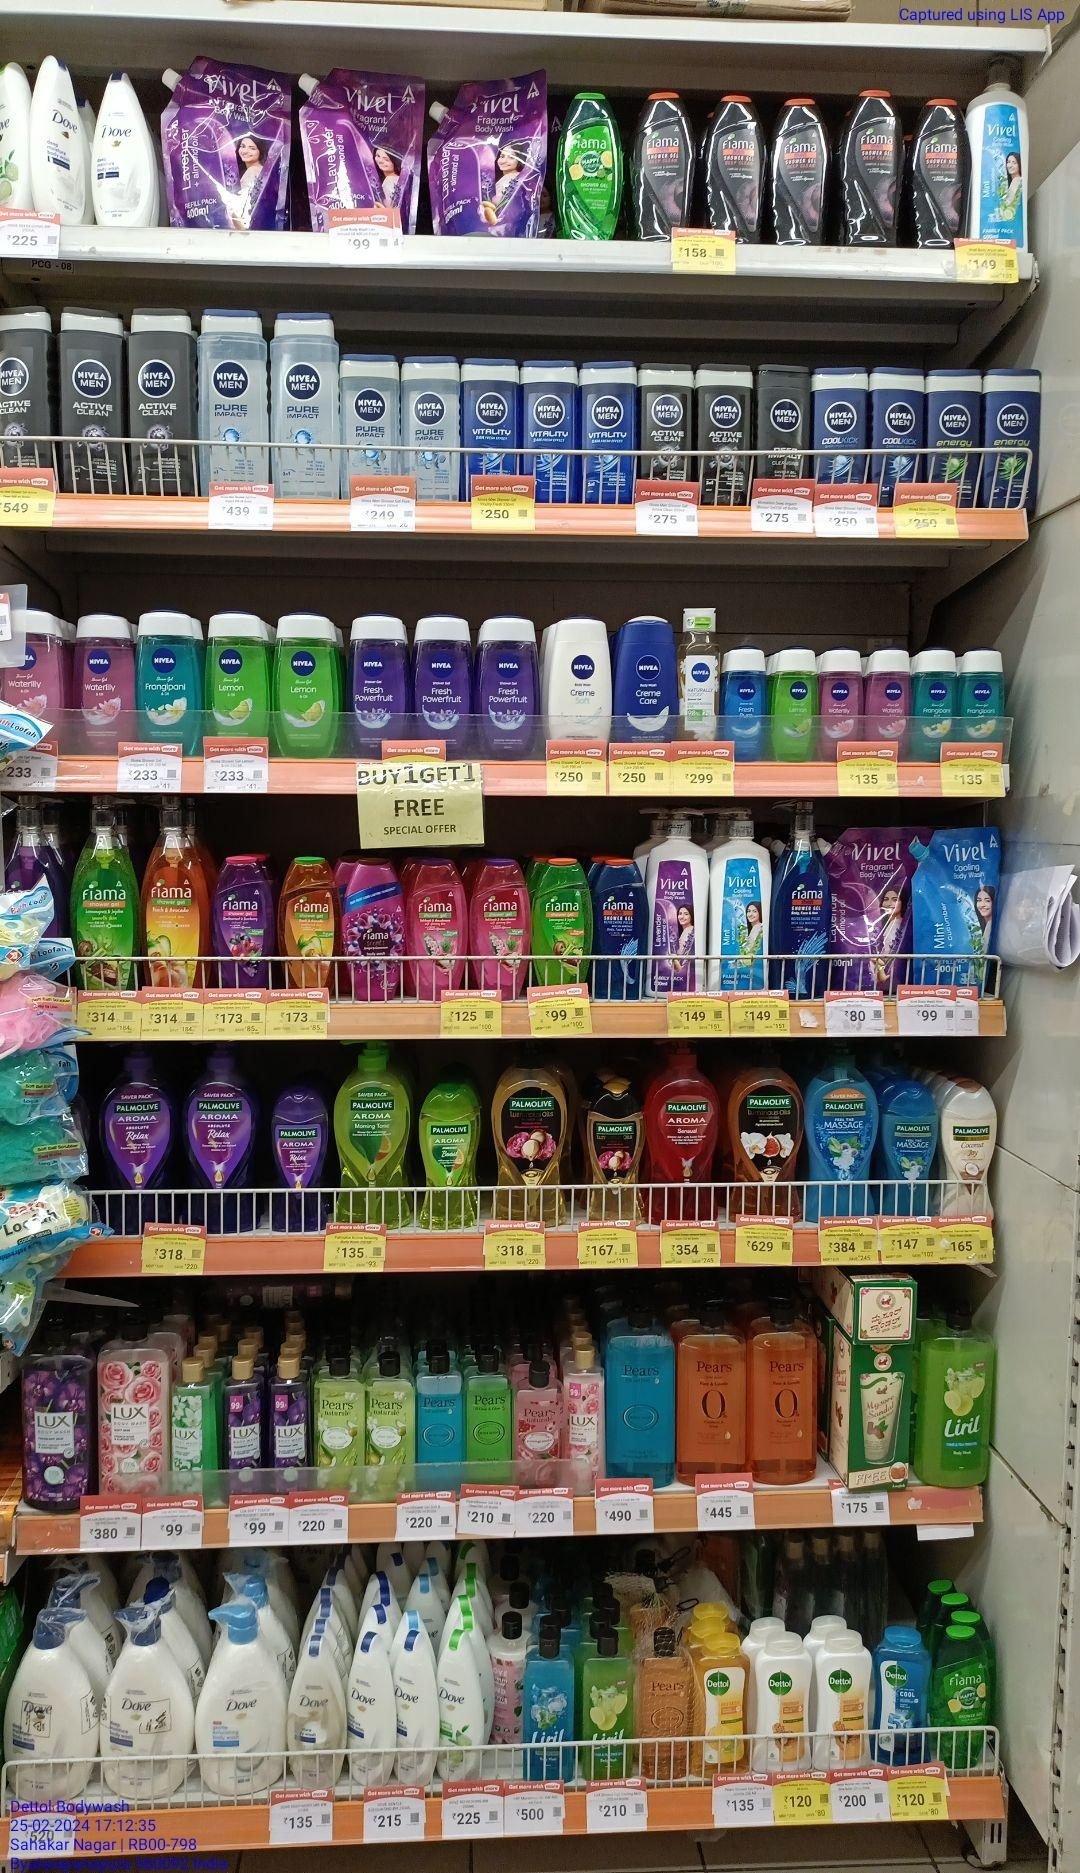Dettol_Bodywash_Cool: (879, 1626, 931, 1765)
Dettol_Bodywash_Refresh: (701, 1640, 750, 1773)
Dettol_Nourish_Body_Wash_250ML: (816, 1641, 872, 1766), (760, 1644, 813, 1774)
Dove_Deep_Moisture_Body_Wash_250ML: (291, 1644, 347, 1791), (395, 1632, 440, 1786), (351, 1632, 392, 1788)
Dove_Refreshing_Body_Wash_250ML: (440, 1630, 483, 1779)
Fiama_Shower_Gel_Lemongrass_and_Jojoba_250ML: (534, 859, 589, 992)
Fiama_Shower_Gel_Patchouli_and_Macadamia_250ML: (471, 858, 530, 1001), (411, 859, 467, 998)
Fiama_Shower_Gel_Peach_and_Avocado_250ML: (284, 858, 337, 985)
Liril_Cooling_Mint_Body_Wash_250ML: (521, 1635, 575, 1784)
Liril_Lime_and_Tea_Tree_Oil_Body_Wash_250ML: (585, 1632, 630, 1782)
Lux_Black_Orchid_Scent_and_Juniper_Oil_Body_Wash_245ML: (267, 1358, 314, 1492), (224, 1357, 266, 1494)
Lux_Body_Wash_Skin_Detox_Freesia_Scent_and_Alove_Vera_245ML: (172, 1360, 216, 1504)
Nivea_Shower_Gel_Frangipani_and_Oil_250ML: (138, 612, 198, 755)
Nivea_Shower_Gel_Fresh_Powerfruit_250ML: (351, 615, 409, 763), (482, 616, 537, 762), (418, 612, 471, 759)
Nivea_Shower_Gel_Lemon_and_Oil_250ML: (204, 614, 269, 755), (276, 614, 338, 756)
Nivea_Shower_Gel_Waterlily_and_Oil_250ML: (78, 612, 134, 755), (12, 607, 60, 753)
Palmolive_Aroma_Moments_Feel_The_Massage_Shower_Gel_250ML: (887, 1088, 937, 1222)
Palmolive_Aroma_Morning_Tonic_Shower_Gel_250ML: (417, 1092, 483, 1227)
Palmolive_Aroma_Relax_250ML: (270, 1092, 329, 1234)
Palmolive_Coconut_Joy_Exfoliating_Body_Wash_250ML: (944, 1086, 993, 1218)
Palmolive_Luminous_Oils_Invigorating_Macadamia_Oil_With_Peony_250ML: (586, 1084, 644, 1227)
Pears_Naturale_Aloe_Vera_Body_Wash_250ML: (366, 1355, 414, 1499), (318, 1357, 364, 1499)
Pears_Pure_Glycerin_and_Lemon_Flower_Extracts_Body_Wash_250ML: (468, 1355, 510, 1487)
Pears_Pure_Glycerin_and_Mint_Extracts_Body_Wash_250ML: (419, 1355, 463, 1491)
